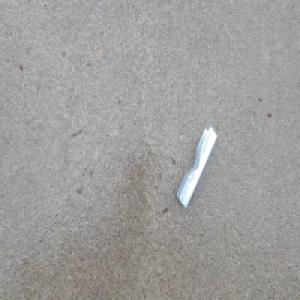ClampPart: (175, 125, 217, 209)
